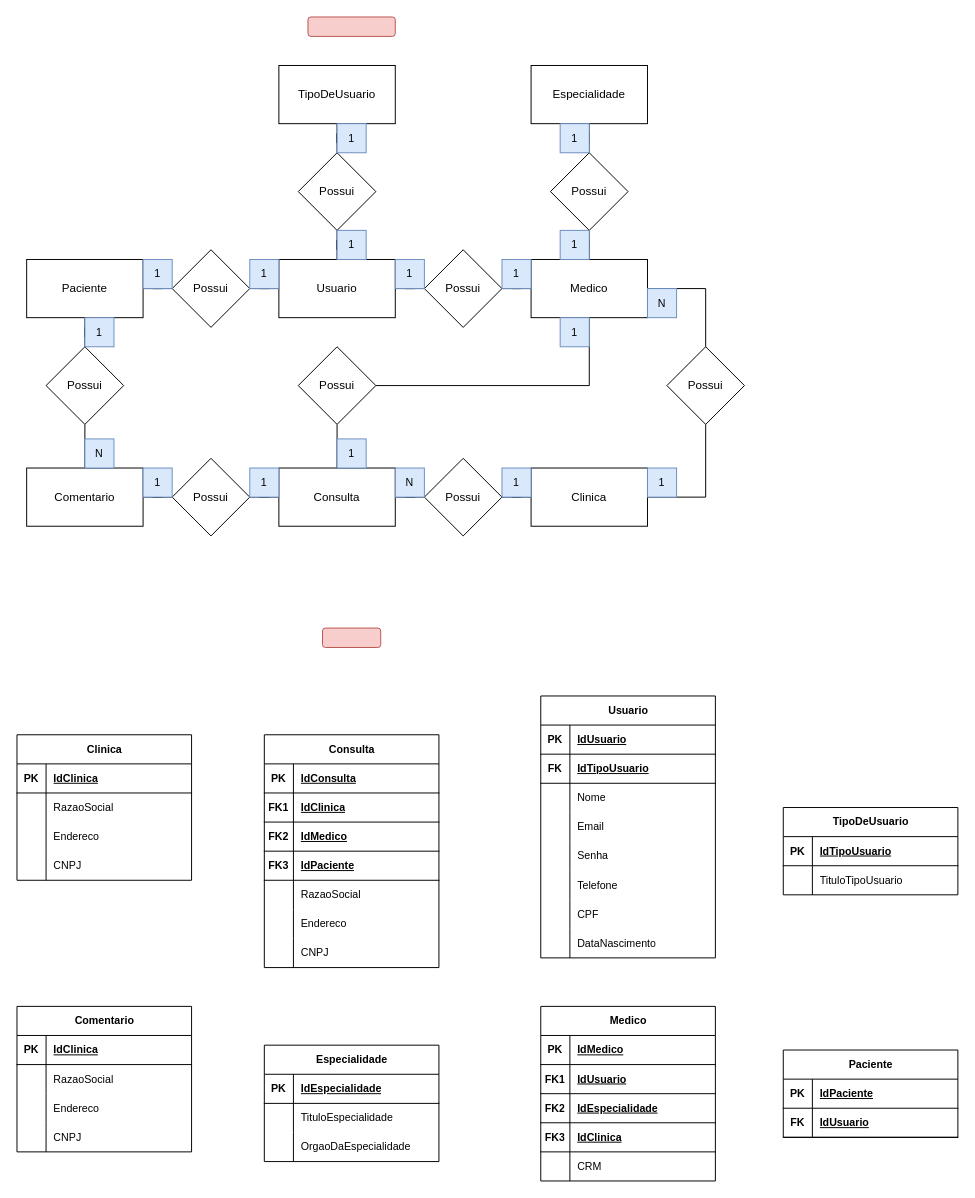
Image size: 975x1198. Some labels were removed from this diagram. Each missing label, with the centre of its shape:
Conceitual: point 351,26
Lógico: point 351,637
